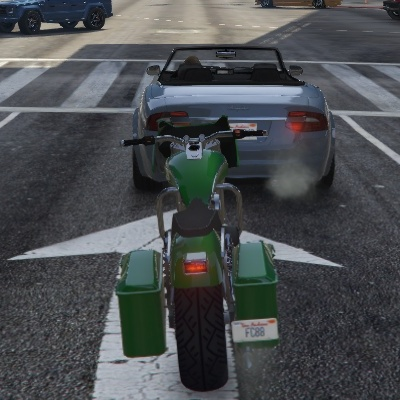on: (175, 247, 213, 279)
